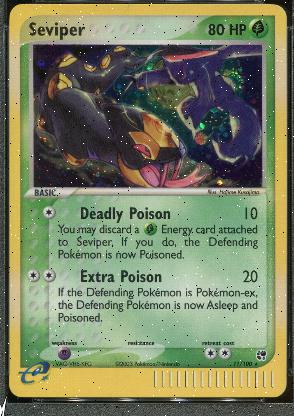Card: (7, 0, 287, 400)
